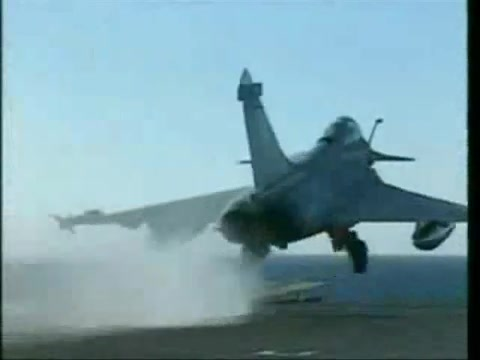aeroplane: (50, 68, 469, 276)
